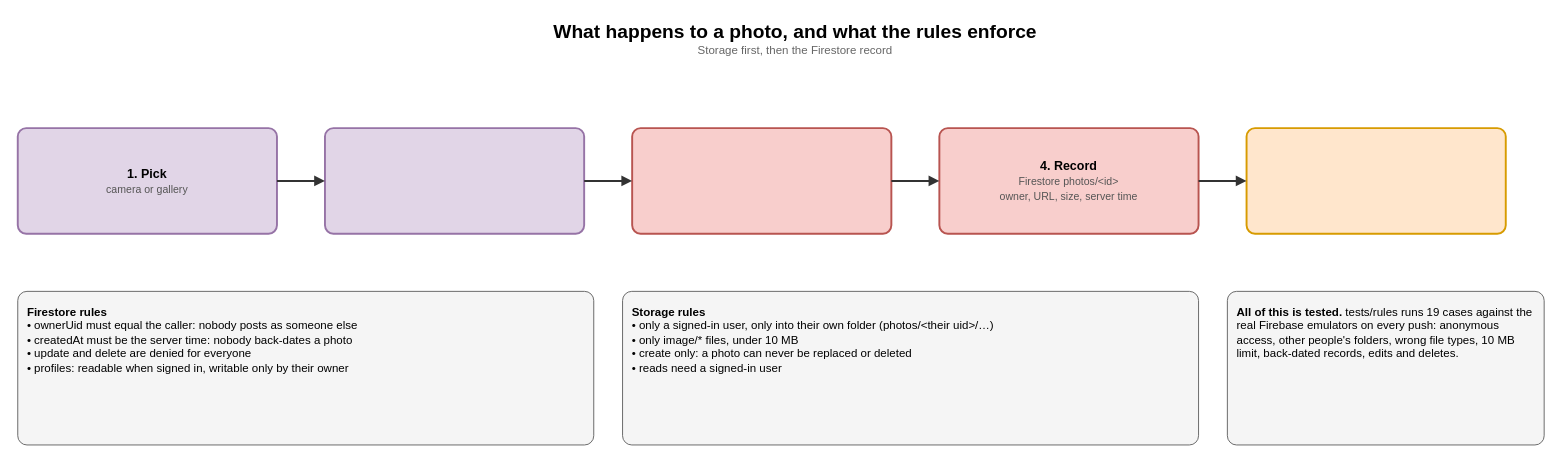
This 1561x462 diagram has some shape labels left out. The centre of each missing label's shape, as x and y in pixels:
"2. Compress over 3 MB: max 1920 px JPEG, sizes and dimensions recorded" goes at (x=454, y=180).
"3. Upload Storage photos/<uid>/<timestamp>.jpg" goes at (x=761, y=180).
"5. Feed signed-in users only newest first, infinite scroll" goes at (x=1375, y=180).
